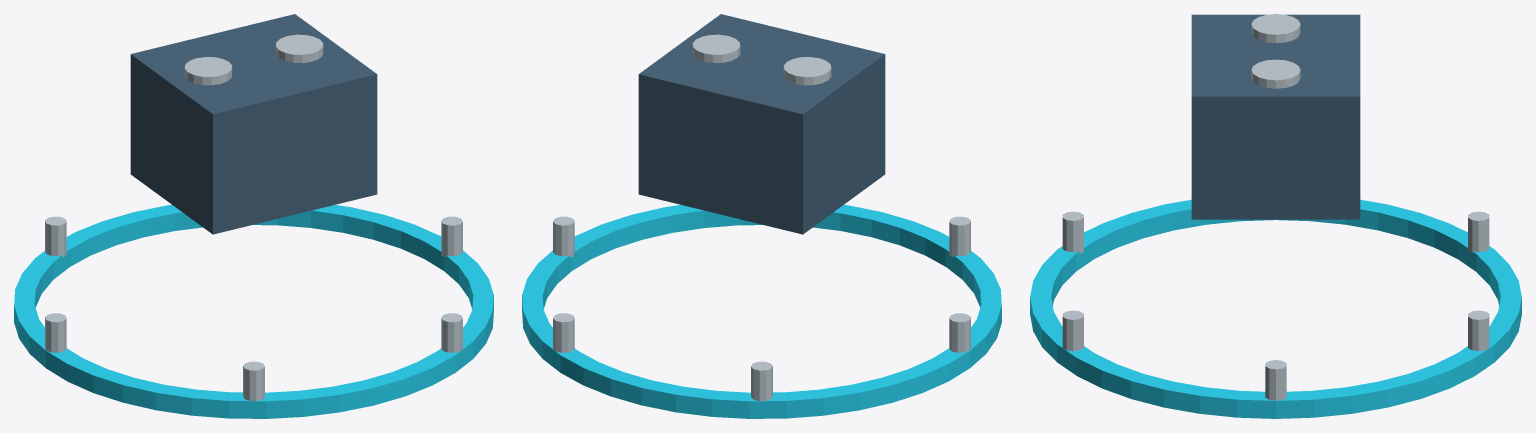
The model's file is 29_L77_SoftLandingForceRegulator.fbx.
The picture shows the model from 3 angles, left to right: view 1: azimuth 30°, elevation 25°; view 2: azimuth 150°, elevation 25°; view 3: azimuth 270°, elevation 25°; orthographic projection. The views are drawn at different scales.
Visible parts, largest first — view 1: SoftLandingForceRegulator_Part_0000, SoftLandingForceRegulator_Part_0003, SoftLandingForceRegulator_Part_0001, SoftLandingForceRegulator_Part_0002, SoftLandingForceRegulator_Part_0004, SoftLandingForceRegulator_Part_0008, SoftLandingForceRegulator_Part_0006, SoftLandingForceRegulator_Part_0005, SoftLandingForceRegulator_Part_0007; view 2: SoftLandingForceRegulator_Part_0000, SoftLandingForceRegulator_Part_0003, SoftLandingForceRegulator_Part_0001, SoftLandingForceRegulator_Part_0002, SoftLandingForceRegulator_Part_0004, SoftLandingForceRegulator_Part_0006, SoftLandingForceRegulator_Part_0008, SoftLandingForceRegulator_Part_0007, SoftLandingForceRegulator_Part_0009; view 3: SoftLandingForceRegulator_Part_0000, SoftLandingForceRegulator_Part_0003, SoftLandingForceRegulator_Part_0001, SoftLandingForceRegulator_Part_0002, SoftLandingForceRegulator_Part_0006, SoftLandingForceRegulator_Part_0008, SoftLandingForceRegulator_Part_0004, SoftLandingForceRegulator_Part_0005, SoftLandingForceRegulator_Part_0009.
Boxes of the visible parts, x1,y1,x2,y2 form: SoftLandingForceRegulator_Part_0000: [130, 14, 377, 234]; SoftLandingForceRegulator_Part_0003: [14, 204, 493, 418]; SoftLandingForceRegulator_Part_0001: [184, 57, 232, 85]; SoftLandingForceRegulator_Part_0002: [275, 34, 323, 62]; SoftLandingForceRegulator_Part_0004: [441, 216, 462, 257]; SoftLandingForceRegulator_Part_0008: [45, 216, 66, 257]; SoftLandingForceRegulator_Part_0006: [243, 361, 264, 401]; SoftLandingForceRegulator_Part_0005: [441, 313, 462, 352]; SoftLandingForceRegulator_Part_0007: [45, 313, 66, 352]; SoftLandingForceRegulator_Part_0000: [638, 14, 885, 234]; SoftLandingForceRegulator_Part_0003: [522, 204, 1001, 418]; SoftLandingForceRegulator_Part_0001: [783, 57, 831, 85]; SoftLandingForceRegulator_Part_0002: [692, 34, 740, 62]; SoftLandingForceRegulator_Part_0004: [553, 216, 574, 257]; SoftLandingForceRegulator_Part_0006: [949, 216, 970, 257]; SoftLandingForceRegulator_Part_0008: [751, 361, 772, 401]; SoftLandingForceRegulator_Part_0007: [949, 313, 970, 352]; SoftLandingForceRegulator_Part_0009: [553, 313, 574, 352]; SoftLandingForceRegulator_Part_0000: [1191, 14, 1360, 219]; SoftLandingForceRegulator_Part_0003: [1030, 199, 1521, 418]; SoftLandingForceRegulator_Part_0001: [1251, 14, 1300, 43]; SoftLandingForceRegulator_Part_0002: [1251, 59, 1300, 88]; SoftLandingForceRegulator_Part_0006: [1062, 211, 1083, 253]; SoftLandingForceRegulator_Part_0008: [1468, 211, 1489, 253]; SoftLandingForceRegulator_Part_0004: [1265, 360, 1286, 400]; SoftLandingForceRegulator_Part_0005: [1062, 310, 1083, 351]; SoftLandingForceRegulator_Part_0009: [1468, 310, 1489, 351].
Size of the model in its own units: 210 by 126 by 210.
